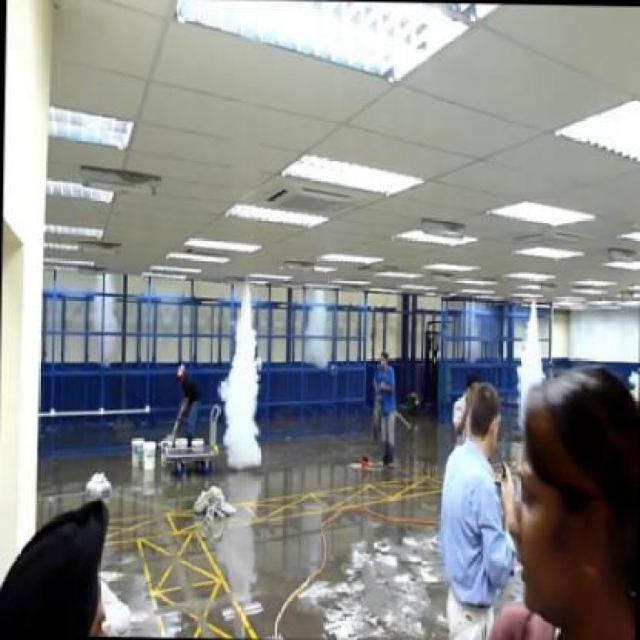fire: (214, 283, 266, 479), (514, 303, 544, 400)
